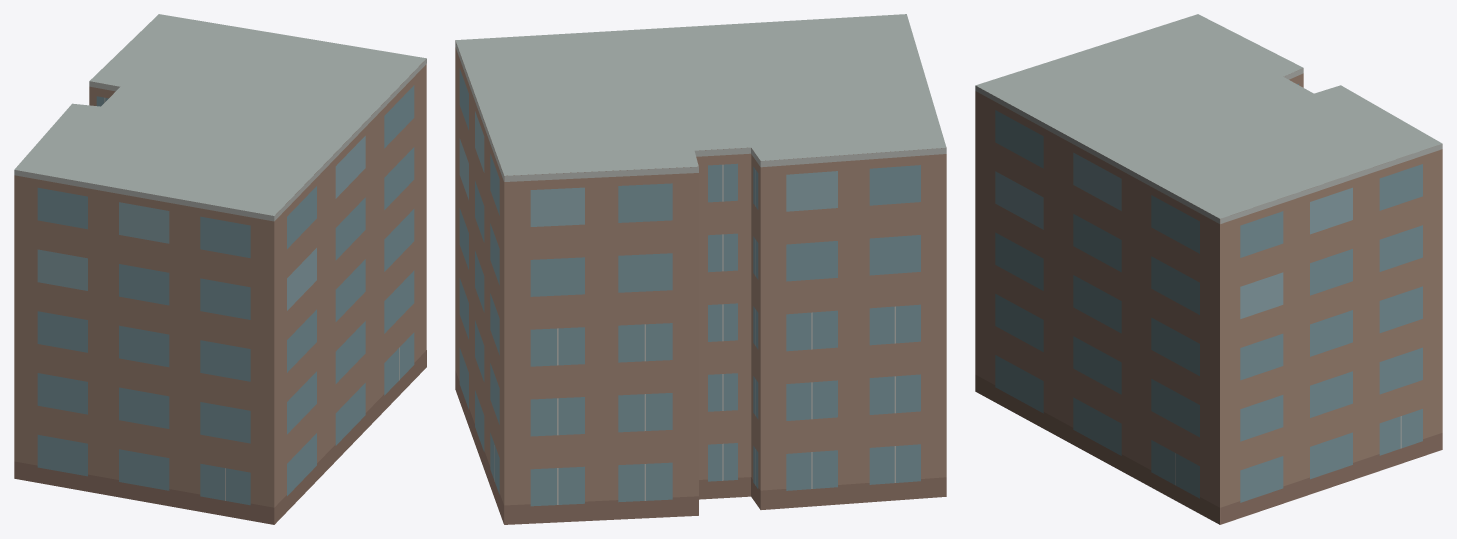
File: survey-upis-32777095.glb
The picture shows the model from 3 angles, left to right: view 1: azimuth 30°, elevation 25°; view 2: azimuth 150°, elevation 25°; view 3: azimuth 270°, elevation 25°; orthographic projection. The views are drawn at different scales.
Parts seen in each view (by area): view 1: survey-upis-32777095.tmp; view 2: survey-upis-32777095.tmp; view 3: survey-upis-32777095.tmp.
Part boxes in pixels (x1=…): survey-upis-32777095.tmp: x1=14, y1=14, x2=426, y2=524; survey-upis-32777095.tmp: x1=455, y1=14, x2=946, y2=524; survey-upis-32777095.tmp: x1=975, y1=14, x2=1442, y2=524.
Size of the model in its own units: 19.74 by 13.75 by 19.04.
